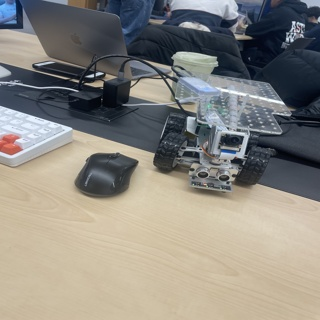vehicle: (152, 65, 290, 193)
